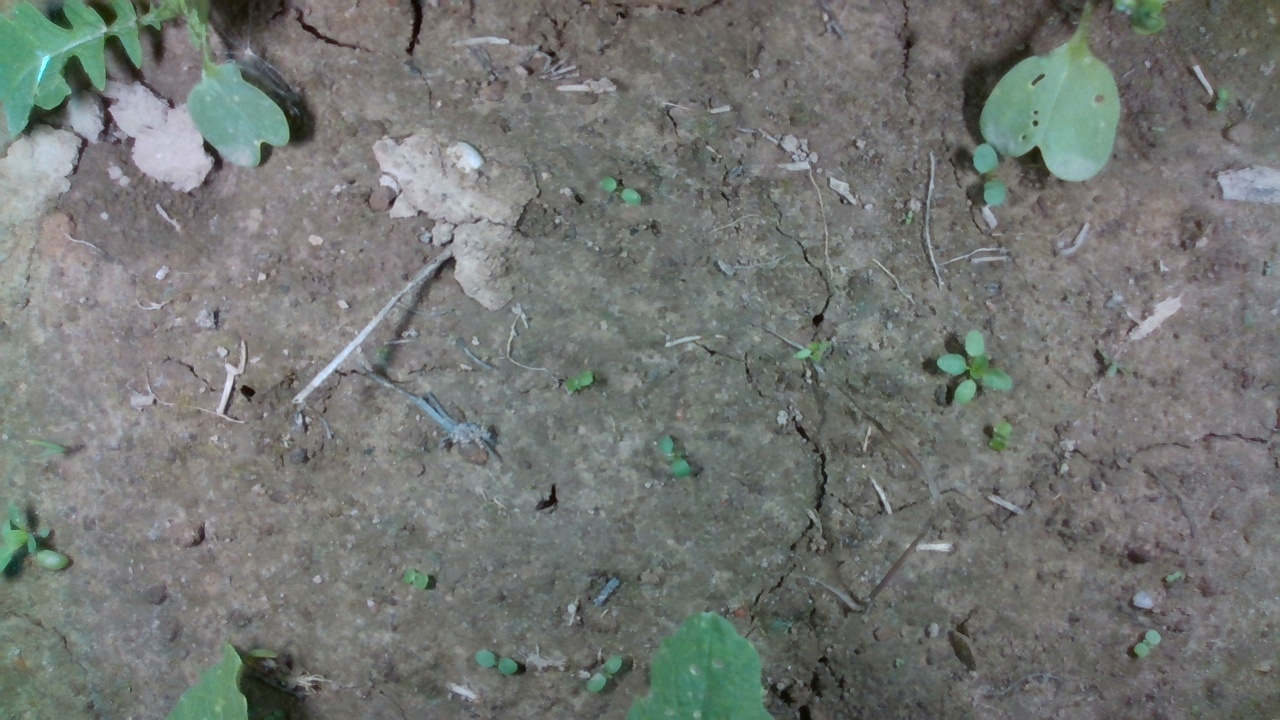weed: (1125, 627, 1163, 661)
